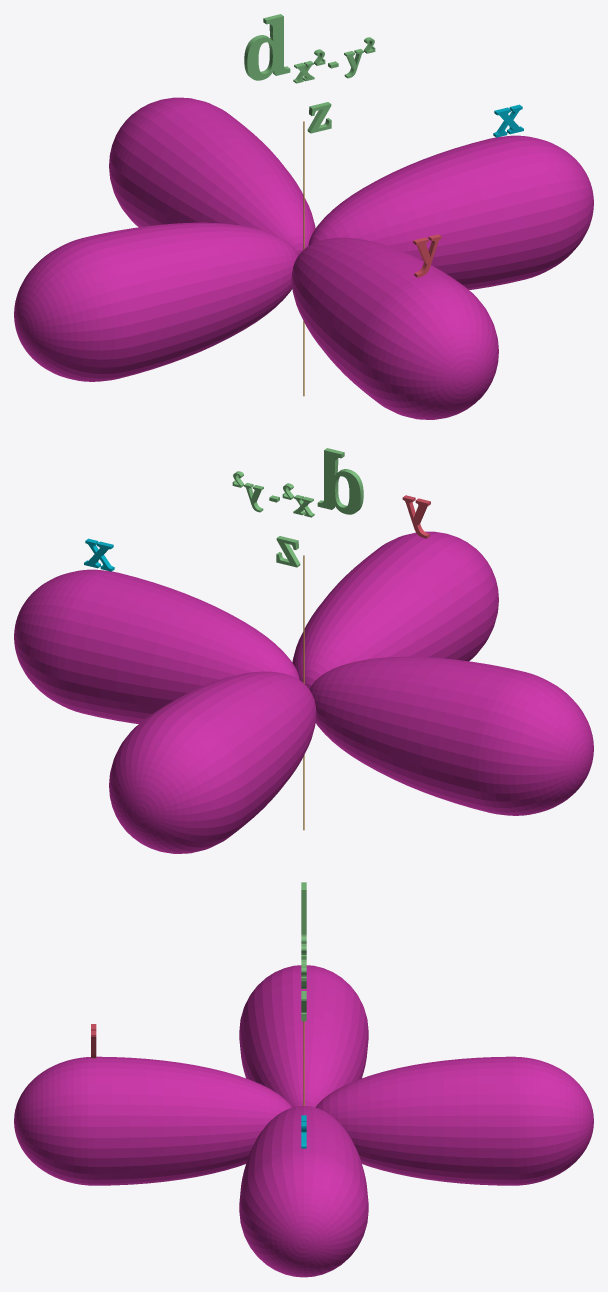
File: dx2-y2 orbital updated.glb
3 views of the same model, one above another, from view 1: azimuth 30°, elevation 25°; view 2: azimuth 150°, elevation 25°; view 3: azimuth 270°, elevation 25° (orthographic). The views are drawn at different scales.
Parts seen in each view (by area): view 1: Mesh_Mesh_head_geo.001_lambert2SG.001; view 2: Mesh_Mesh_head_geo.001_lambert2SG.001; view 3: Mesh_Mesh_head_geo.001_lambert2SG.001.
Part boxes in pixels (box(x1,y1,x2,y2)): Mesh_Mesh_head_geo.001_lambert2SG.001: box(14, 14, 593, 419); Mesh_Mesh_head_geo.001_lambert2SG.001: box(14, 448, 593, 853); Mesh_Mesh_head_geo.001_lambert2SG.001: box(14, 882, 593, 1277).
Bounding box in the file's own units: 108 × 70.34 × 108.
